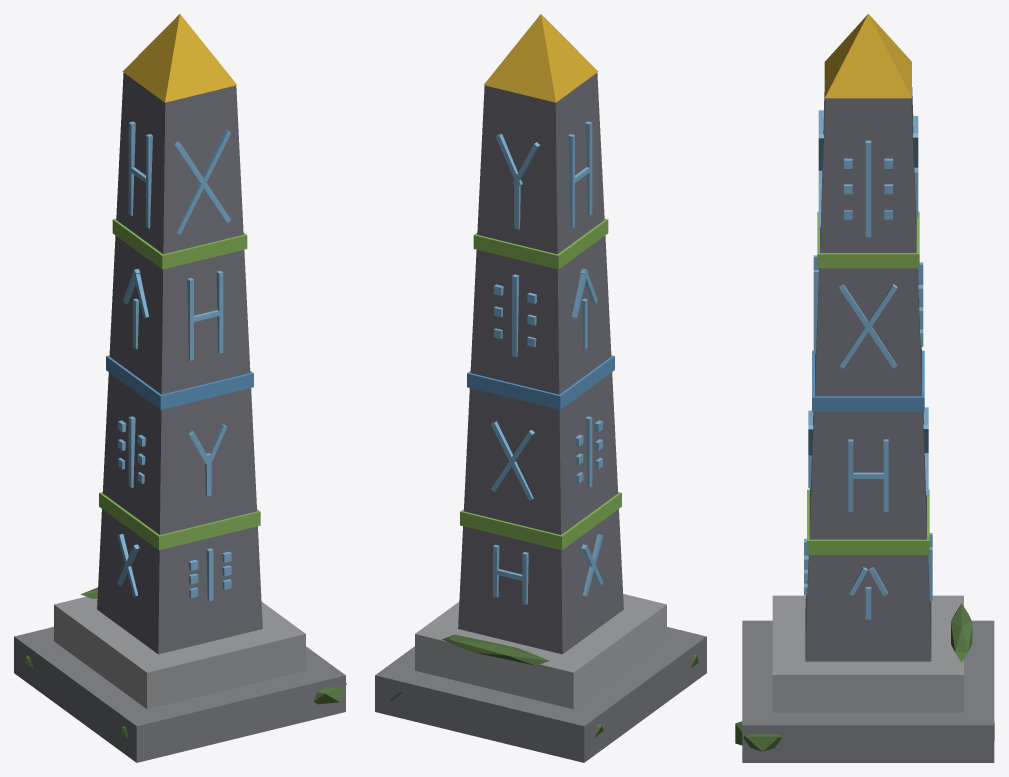
File: Decor_Beanstalk_Obelisk.fbx
3 renders of one model, left to right at view 1: azimuth 30°, elevation 25°; view 2: azimuth 150°, elevation 25°; view 3: azimuth 270°, elevation 25°, orthographic. The views are drawn at different scales.
Visible parts, largest first — view 1: Obelisk_Body; view 2: Obelisk_Body; view 3: Obelisk_Body.
Part boxes in pixels (x1,y1,x2,y2): Obelisk_Body: (14,14,346,762); Obelisk_Body: (375,14,706,762); Obelisk_Body: (735,14,994,762).
Size of the model in its own units: 10 by 29.6 by 10.
